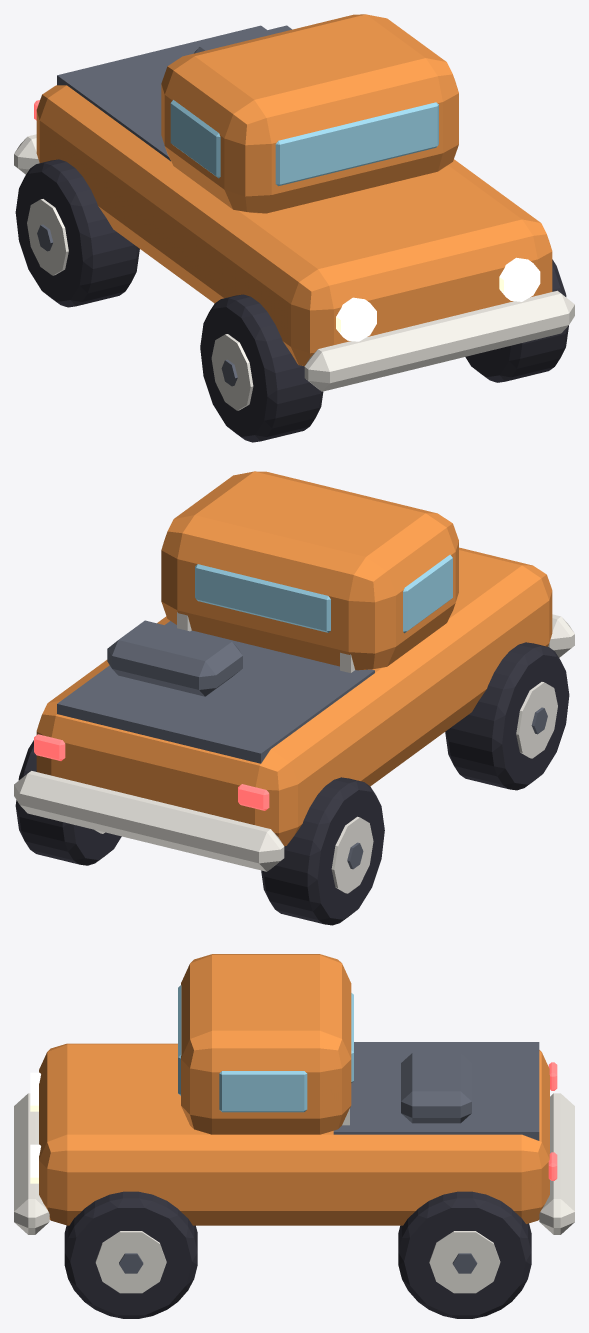
The model's file is veh_pickup.glb.
3 renders of one model, top to bottom at view 1: azimuth 30°, elevation 25°; view 2: azimuth 150°, elevation 25°; view 3: azimuth 270°, elevation 25°, orthographic. The views are drawn at different scales.
Parts seen in each view (by area): view 1: veh_pickup, wheel_rl, wheel_fl, wheel_fr; view 2: veh_pickup, wheel_fl, wheel_rl, wheel_rr; view 3: veh_pickup, wheel_rr, wheel_fr.
Part boxes in pixels (box(x1,y1,x2,y2)): veh_pickup: box(14, 14, 574, 391); wheel_rl: box(15, 159, 139, 307); wheel_fl: box(200, 294, 323, 442); wheel_fr: box(465, 259, 568, 382); veh_pickup: box(14, 471, 574, 871); wheel_fl: box(445, 642, 569, 790); wheel_rl: box(261, 777, 384, 925); wheel_rr: box(15, 740, 121, 865); veh_pickup: box(14, 954, 574, 1234); wheel_rr: box(398, 1191, 531, 1318); wheel_fr: box(64, 1191, 197, 1318).
Bounding box in the file's own units: 2.3 × 2.04 × 3.95.
